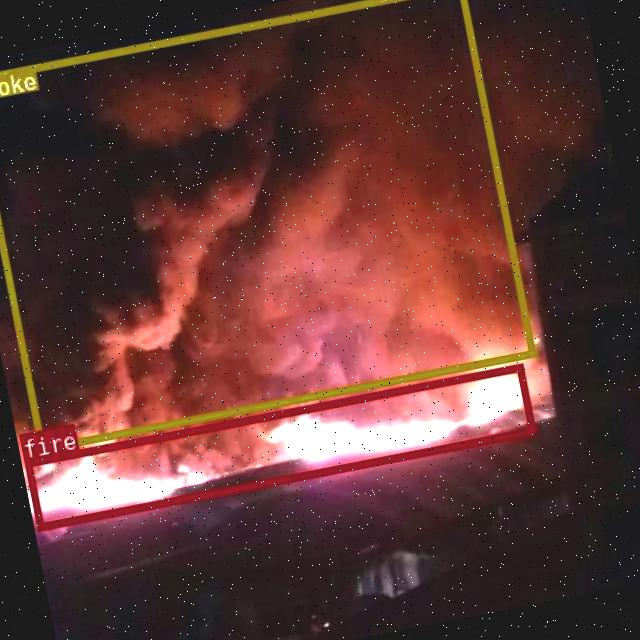fire: (23, 363, 534, 530)
smoke: (0, 0, 534, 452)
